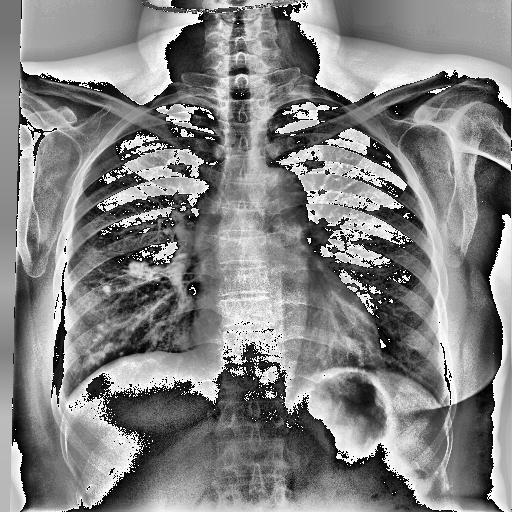0- Aortic enlargement: (240, 167, 308, 228)
13- Pulmonary fibrosis: (72, 324, 126, 378), (130, 258, 184, 306), (84, 319, 122, 369), (126, 256, 172, 282)
2- Calcification: (84, 261, 170, 366)
8- Nodule-Mass: (103, 282, 110, 294)
